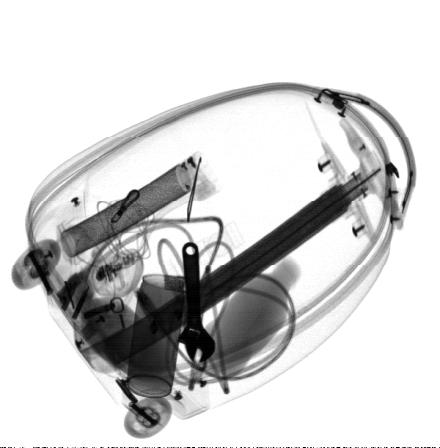Wrench: (176, 241, 215, 363)
